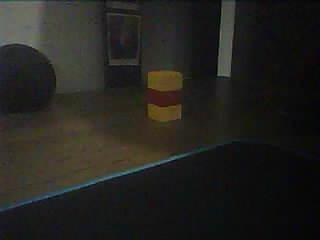lego: (147, 68, 182, 121)
